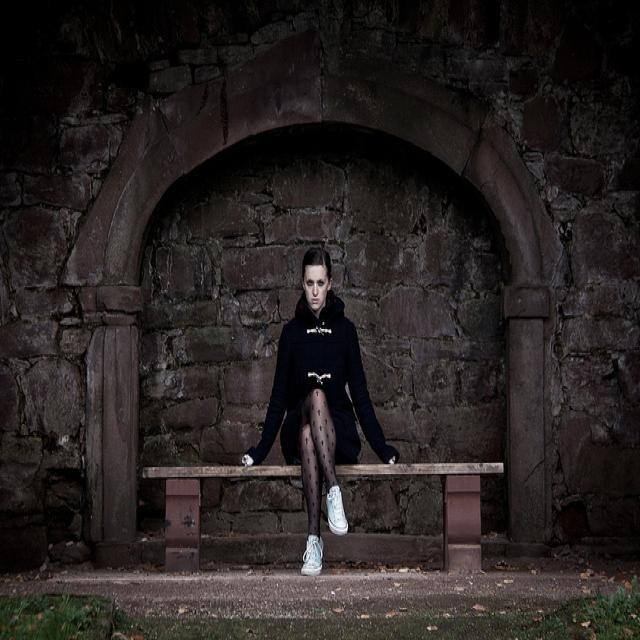non-dog: (240, 246, 401, 579)
